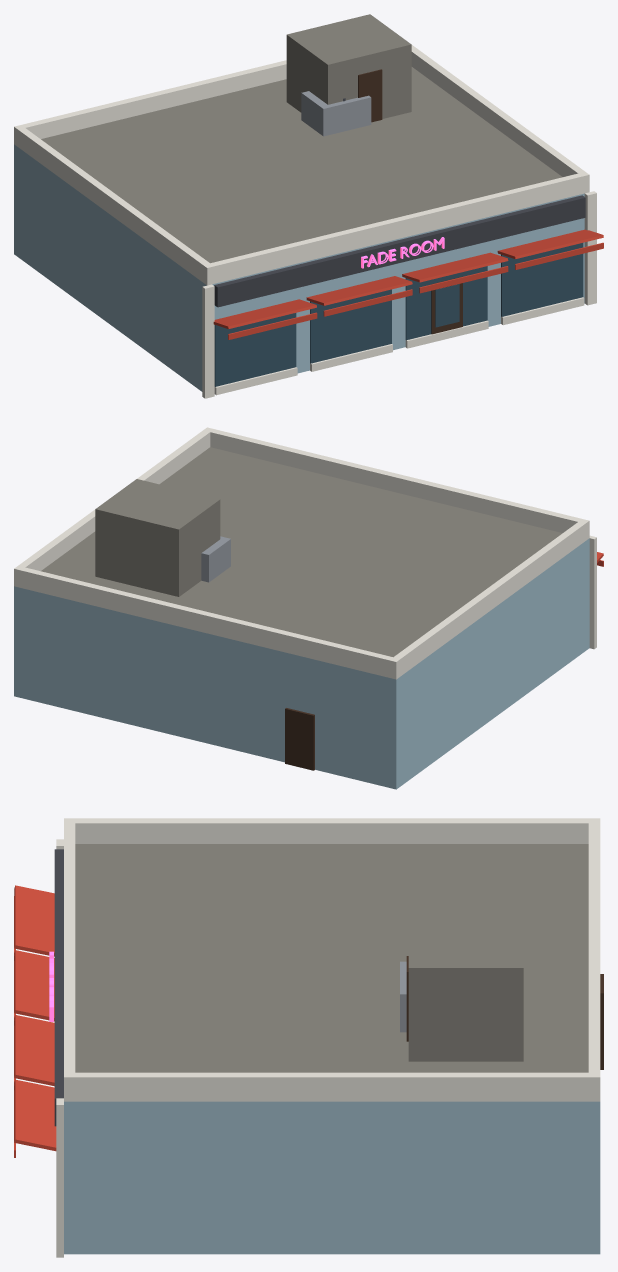
Rendered from shop_barber.glb.
The picture shows the model from 3 angles, top to bottom: view 1: azimuth 30°, elevation 25°; view 2: azimuth 150°, elevation 25°; view 3: azimuth 270°, elevation 25°; orthographic projection. The views are drawn at different scales.
Parts seen in each view (by area): view 1: shop_barber; view 2: shop_barber; view 3: shop_barber.
Boxes of the visible parts, bbox=[...] form: shop_barber: bbox=[14, 14, 603, 398]; shop_barber: bbox=[14, 427, 603, 789]; shop_barber: bbox=[14, 818, 603, 1257].
Size of what is drawn, in the model's own units: 16.4 by 7.2 by 15.4.
